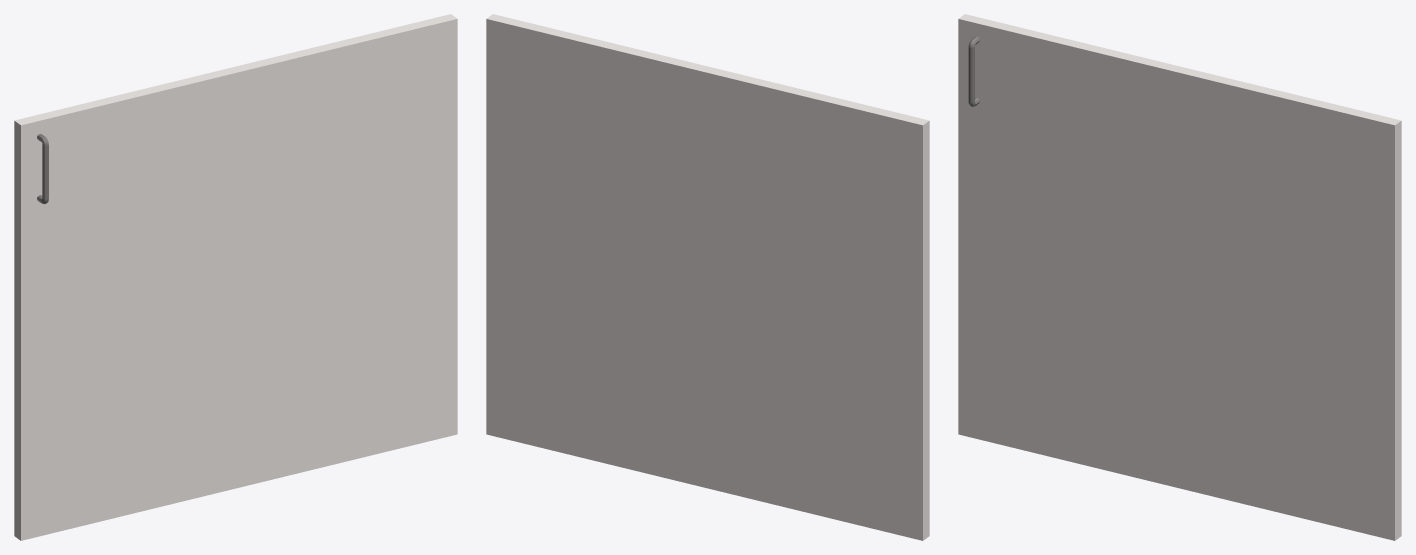
Rendered from Fridge_03.fbx.
3 renders of one model, left to right at view 1: azimuth 30°, elevation 25°; view 2: azimuth 150°, elevation 25°; view 3: azimuth 330°, elevation 25°, orthographic.
Visible parts, largest first — view 1: Fridge_03; view 2: Fridge_03; view 3: Fridge_03.
Part boxes in pixels (x1,y1,x2,y2): Fridge_03: (14, 14, 457, 540); Fridge_03: (486, 14, 929, 540); Fridge_03: (958, 14, 1401, 540).
Bounding box in the file's own units: 91.44 × 83.16 × 5.04.
